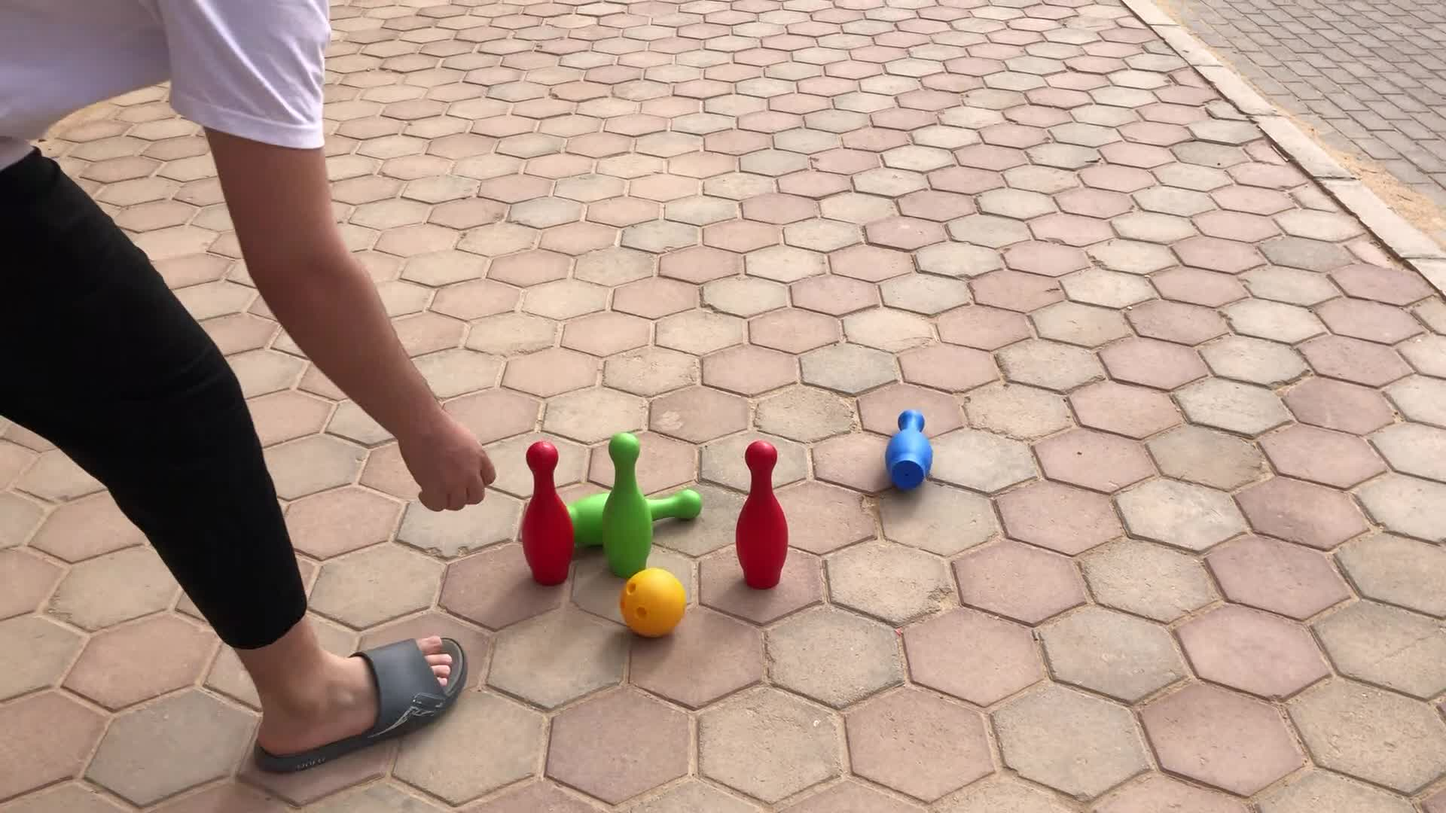bowling-pin: (520, 440, 575, 585), (737, 440, 789, 589), (603, 435, 654, 579), (889, 412, 935, 492), (569, 492, 609, 549)
